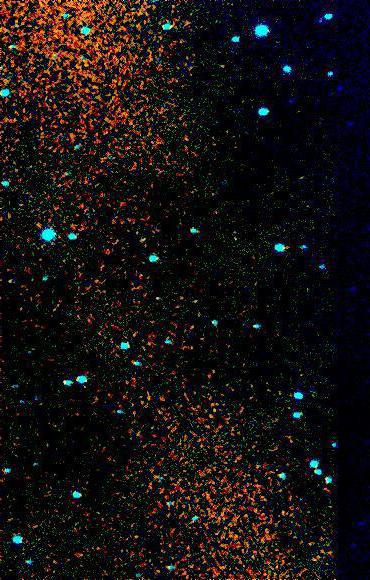star: (157, 90, 187, 120)
